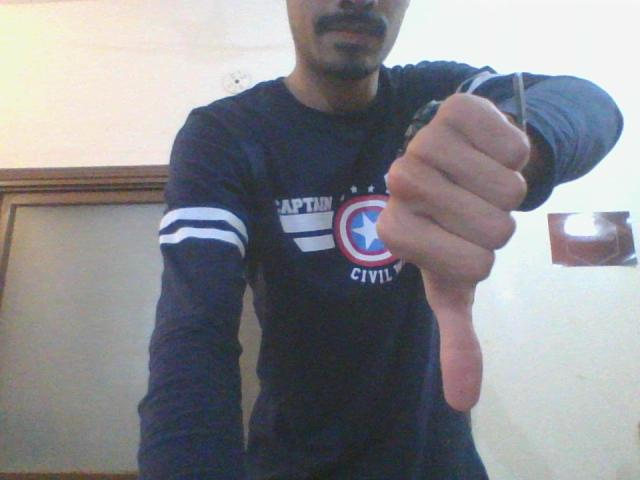thumbs-down: (379, 94, 533, 416)
